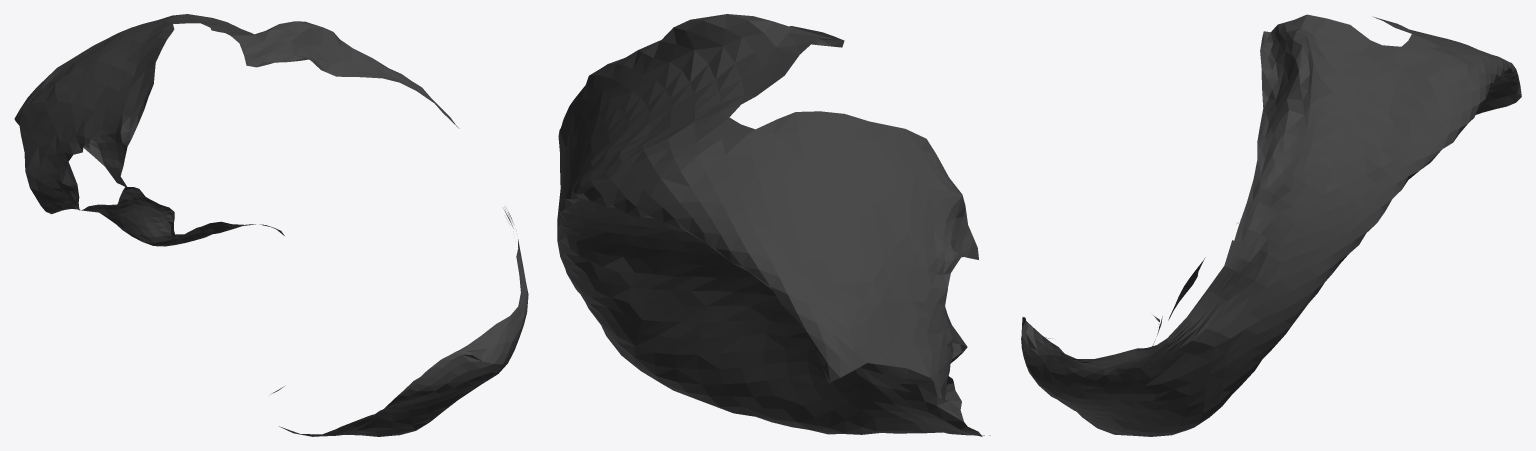
Rendered from meniscus_lateral_e.glb.
3 views of the same model, side by side, from view 1: azimuth 30°, elevation 25°; view 2: azimuth 150°, elevation 25°; view 3: azimuth 270°, elevation 25° (orthographic). The views are drawn at different scales.
Parts seen in each view (by area): view 1: meniscus_lateral_e; view 2: meniscus_lateral_e; view 3: meniscus_lateral_e.
Part boxes in pixels (left/top/right/bottom): meniscus_lateral_e: left=14, top=14, right=528, bottom=436; meniscus_lateral_e: left=557, top=14, right=990, bottom=436; meniscus_lateral_e: left=1021, top=14, right=1521, bottom=436.
Bounding box in the file's own units: 0.00369 × 0.0034 × 0.00414.
Materials: 1 (1 with a texture image).
